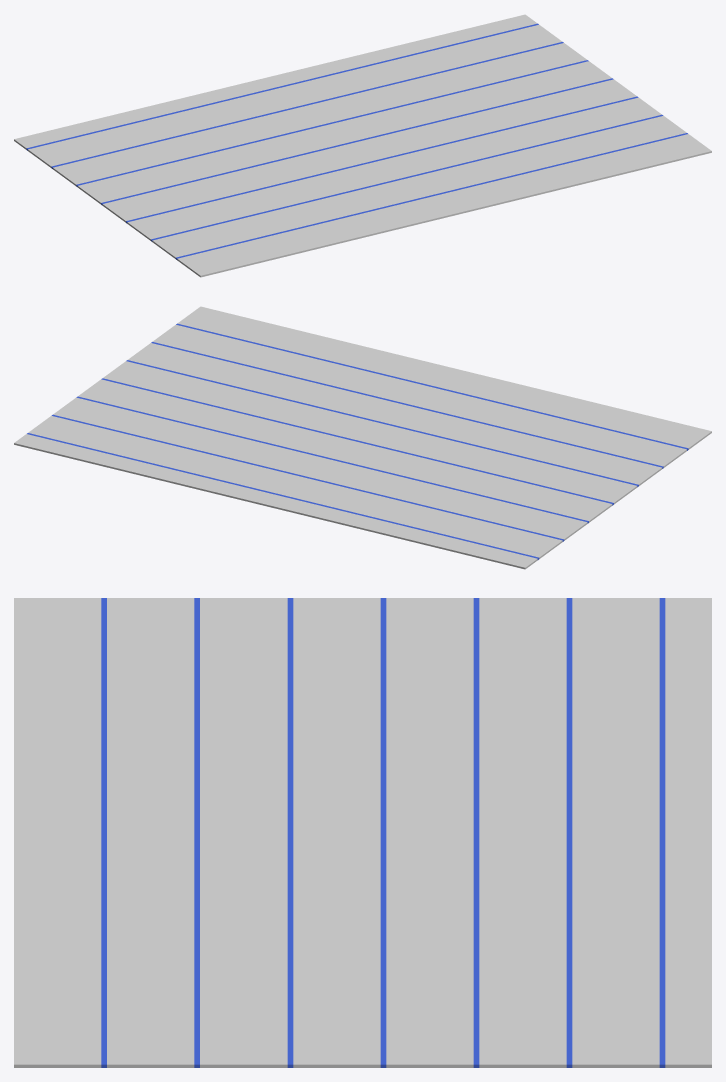
The model's file is IndexCard.fbx.
3 renders of one model, top to bottom at view 1: azimuth 30°, elevation 25°; view 2: azimuth 150°, elevation 25°; view 3: azimuth 270°, elevation 25°, orthographic. The views are drawn at different scales.
Parts seen in each view (by area): view 1: Plane; view 2: Plane; view 3: Plane.
Part boxes in pixels (bbox=[...]): Plane: bbox=[14, 14, 711, 277]; Plane: bbox=[14, 306, 711, 569]; Plane: bbox=[14, 598, 711, 1067].
Size of the model in its own units: 316 by 1 by 200.
